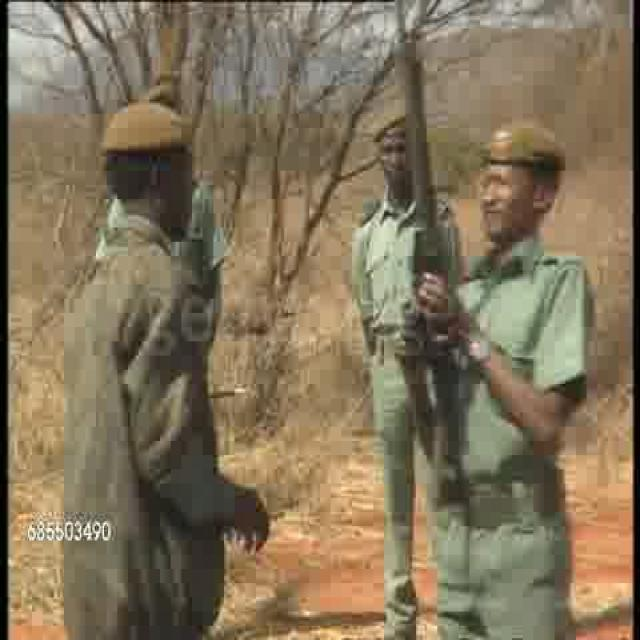poacher: (54, 98, 262, 550), (449, 111, 596, 550), (350, 108, 414, 330)
weapon: (394, 5, 444, 505)
